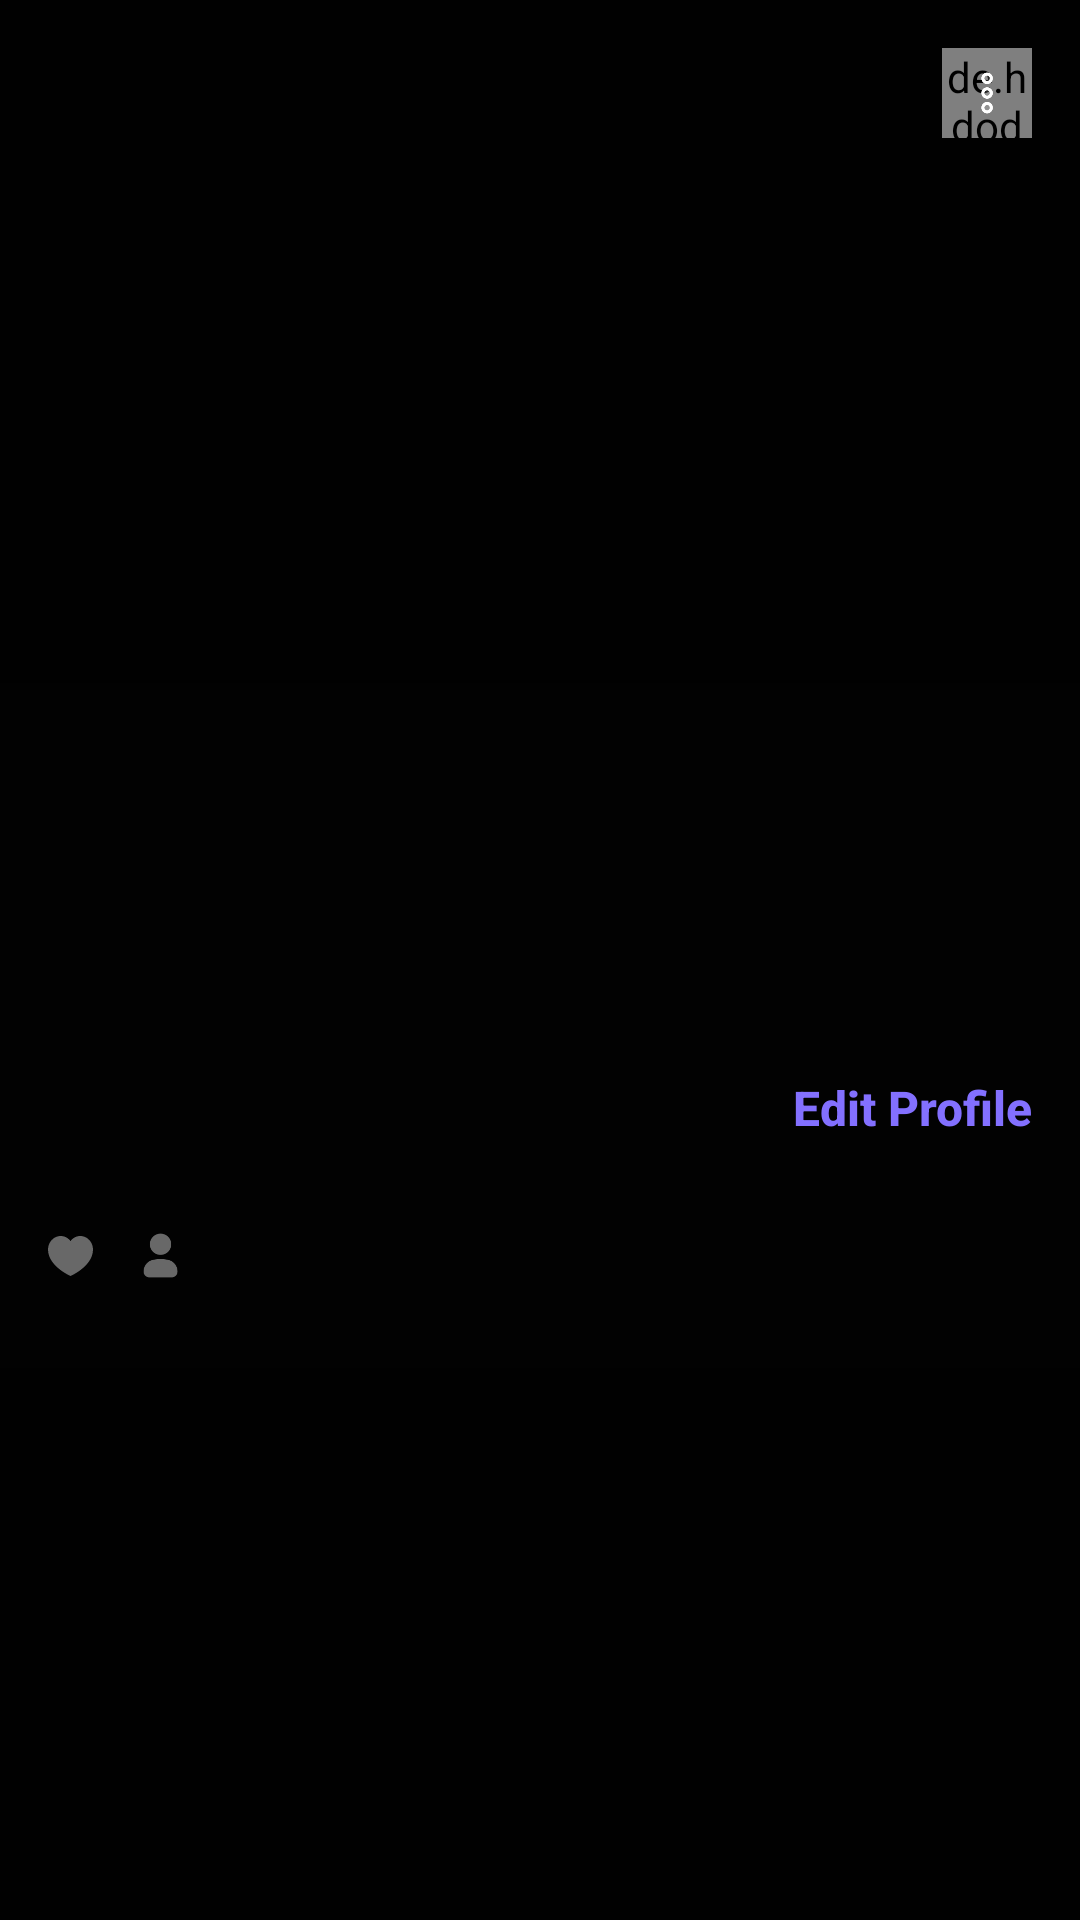

Screen size 1080 × 1920. Icon name, then its box in pixels as box(x1, y1, x2, y2):
heart: box(48, 1236, 93, 1276)
profile: box(143, 1233, 178, 1278)
